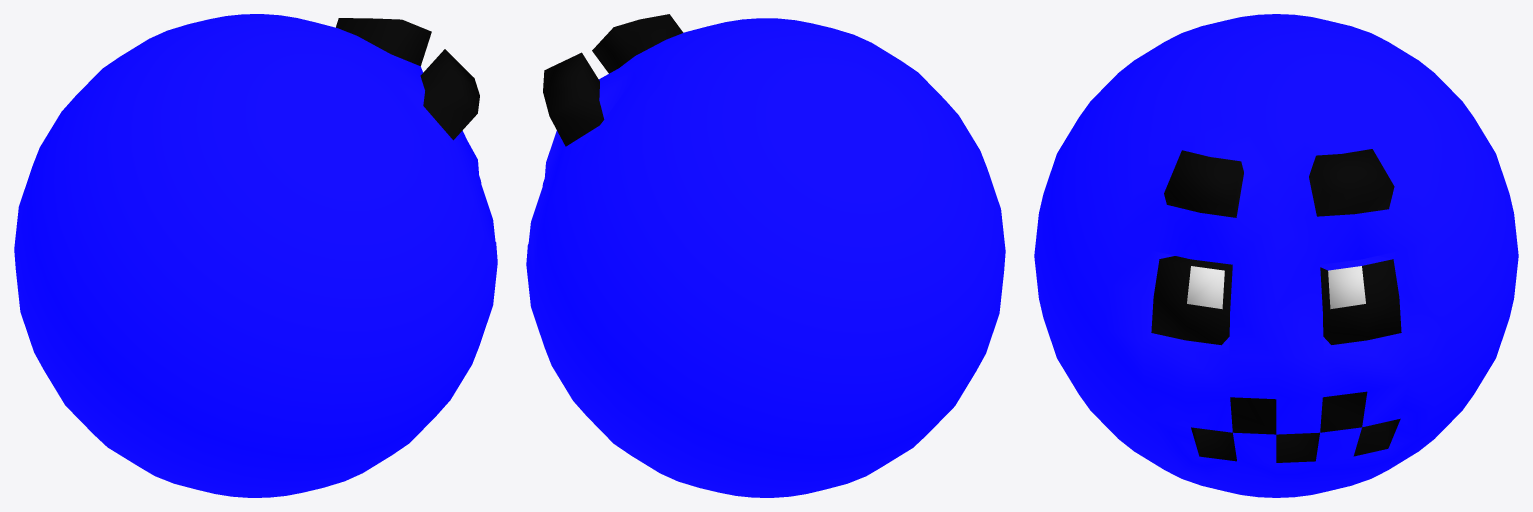
File: Player.glb
3 views of the same model, side by side, from view 1: azimuth 30°, elevation 25°; view 2: azimuth 150°, elevation 25°; view 3: azimuth 270°, elevation 25° (orthographic).
Parts seen in each view (by area): view 1: enemy BOdy; view 2: enemy BOdy; view 3: enemy BOdy.
Part boxes in pixels (<box>): enemy BOdy: <box>14,14,497,497</box>; enemy BOdy: <box>526,14,1005,497</box>; enemy BOdy: <box>1034,14,1518,497</box>.
Bounding box in the file's own units: 2 × 2 × 2.
